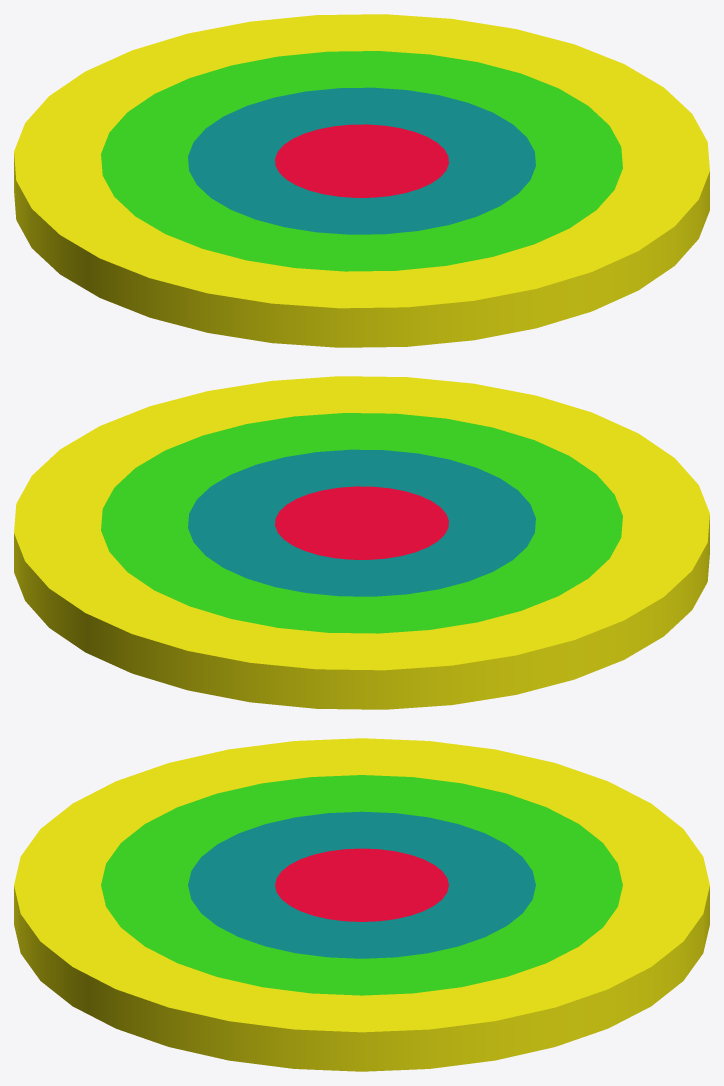
3 renders of one model, top to bottom at view 1: azimuth 30°, elevation 25°; view 2: azimuth 150°, elevation 25°; view 3: azimuth 270°, elevation 25°, orthographic.
Parts seen in each view (by area): view 1: Tube001, Tube002, Tube003, Cylinder001; view 2: Tube001, Tube002, Tube003, Cylinder001; view 3: Tube001, Tube002, Tube003, Cylinder001.
Boxes of the visible parts, left/top/right/bottom form: Tube001: left=14, top=14, right=709, bottom=347; Tube002: left=101, top=51, right=622, bottom=271; Tube003: left=188, top=87, right=535, bottom=234; Cylinder001: left=275, top=124, right=448, bottom=197; Tube001: left=14, top=376, right=709, bottom=709; Tube002: left=101, top=413, right=622, bottom=633; Tube003: left=188, top=449, right=535, bottom=596; Cylinder001: left=275, top=486, right=448, bottom=559; Tube001: left=14, top=738, right=709, bottom=1071; Tube002: left=101, top=775, right=622, bottom=995; Tube003: left=188, top=811, right=535, bottom=958; Cylinder001: left=275, top=848, right=448, bottom=921.
Size of the model in its own units: 160 by 10 by 160.
